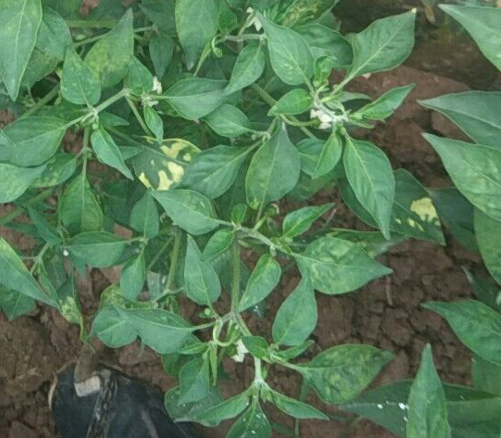blight: (337, 168, 447, 244), (122, 133, 207, 194)
